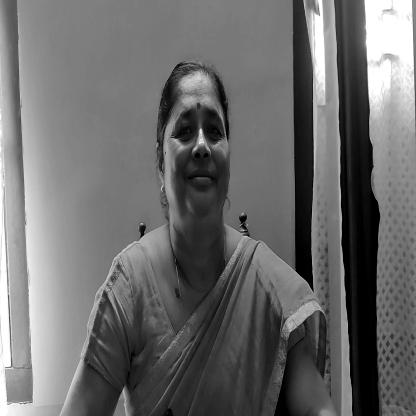Normal: (160, 60, 228, 228)
